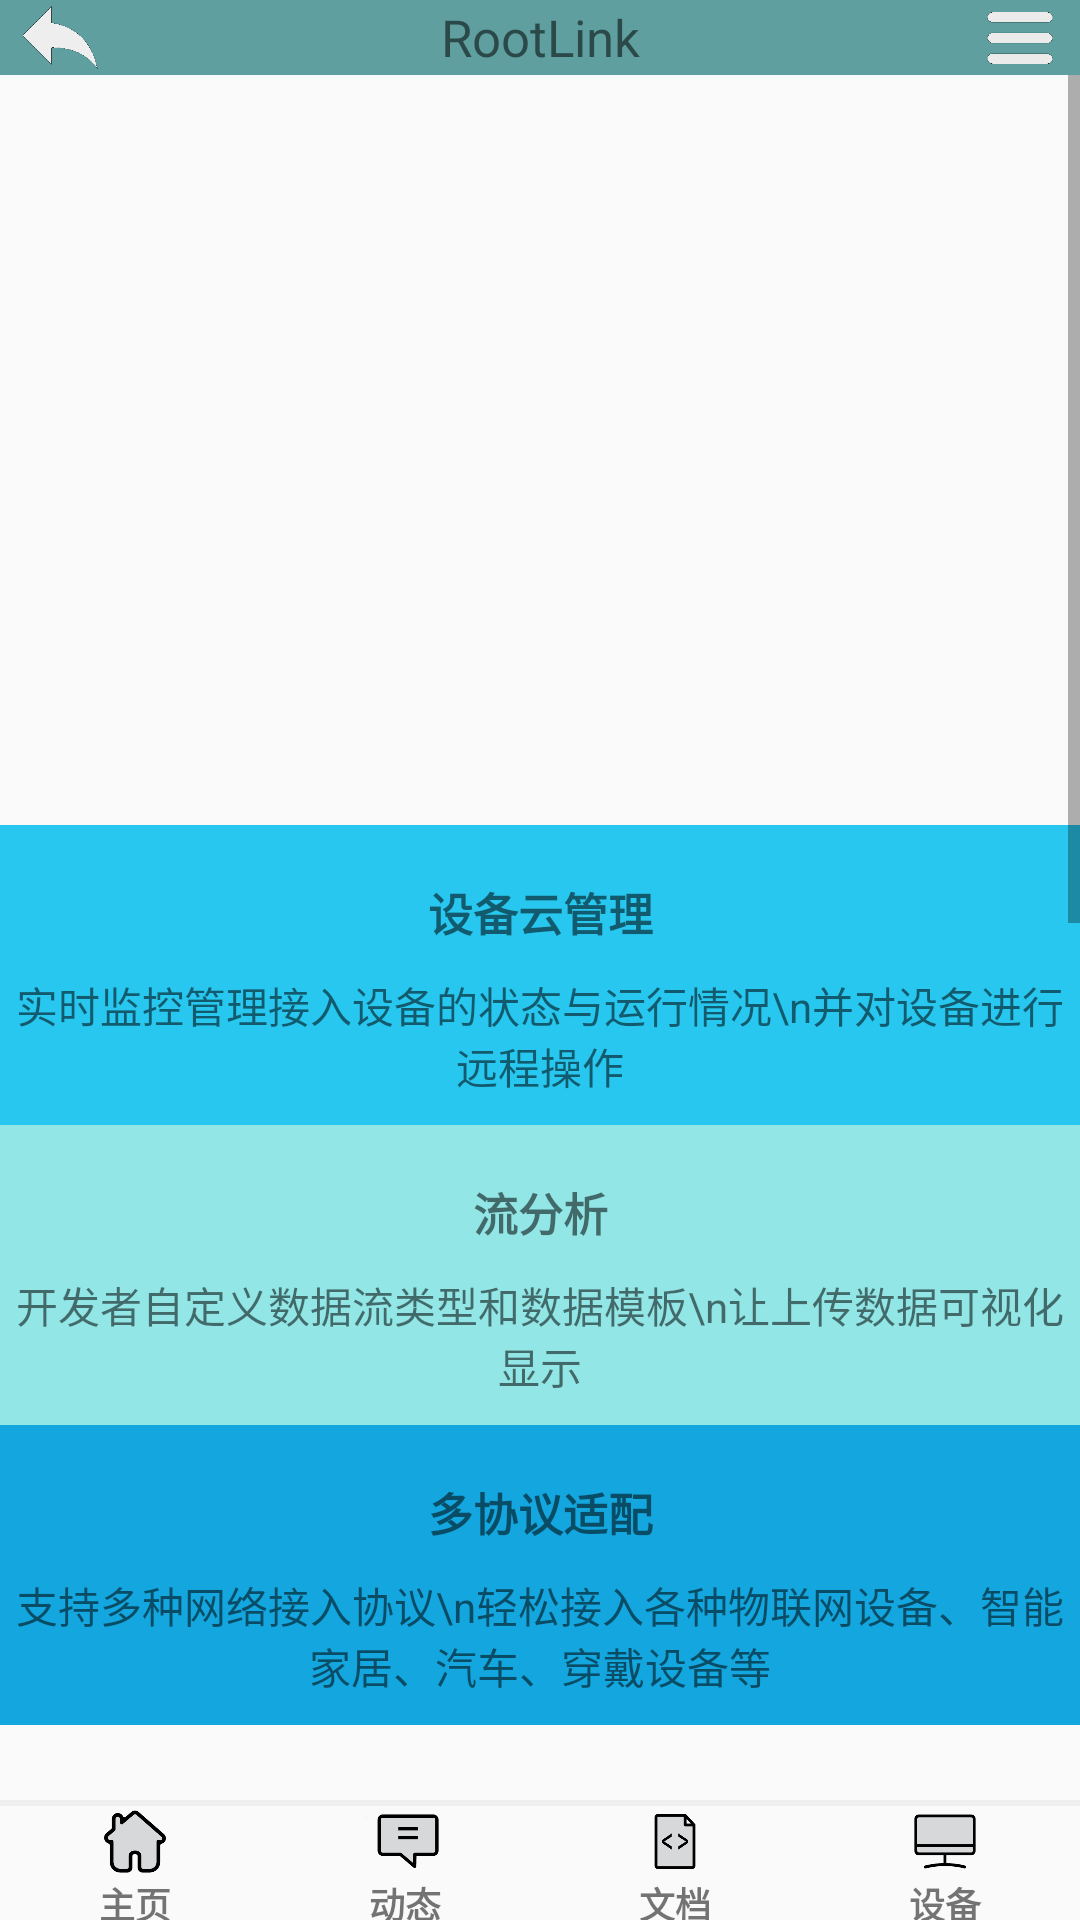

Screen size 1080 × 1920. Icon name, then its center in pixels as [x,y]:
back: [60,37]
menu: [1020,38]
message: [408,1841]
